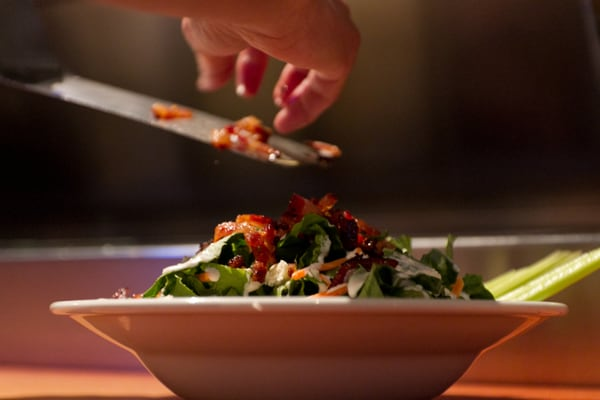sandwich: (26, 64, 339, 163)
